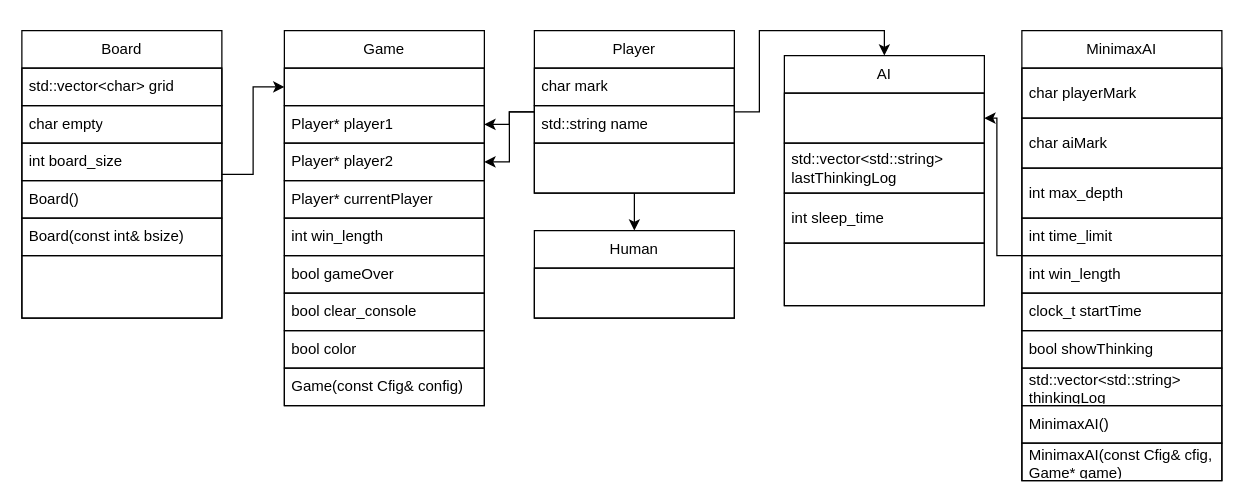
The diagram is 1244 pixels wide and 503 high, and some of its shapes have lost their labels. Here are the shapes that lost their labels. From the top down, the centre of each, then its label:
At point (383, 86): "Board board".
At point (883, 117): "MinimaxAI aiEngine".
At point (633, 167): "Player(const char& c, const std::string& m)".
At point (121, 286): "Board(const int& bsize, const char& empty_symbol)".
At point (633, 292): "Human(const char& c, const std::string& m)".
At point (883, 274): "AI(const char& c, const std::string& m, const Cfig& cfig, Game* game)".
